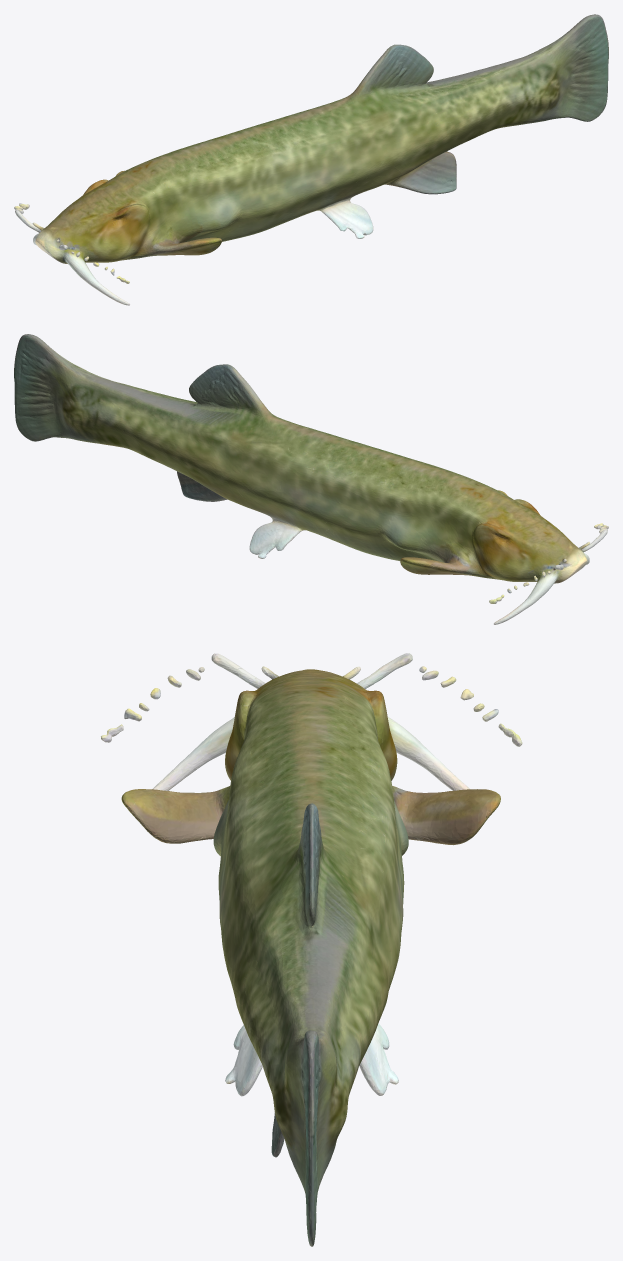
The model's file is catfish.fbx.
The picture shows the model from 3 angles, top to bottom: view 1: azimuth 30°, elevation 25°; view 2: azimuth 150°, elevation 25°; view 3: azimuth 270°, elevation 25°; orthographic projection. The views are drawn at different scales.
Parts seen in each view (by area): view 1: world; view 2: world; view 3: world.
Boxes of the visible parts, x1=… form: world: x1=14, y1=14, x2=608, y2=305; world: x1=14, y1=334, x2=608, y2=624; world: x1=101, y1=653, x2=522, y2=1246.
Bounding box in the file's own units: 199 × 55.41 × 63.78.
Materials: 1 (1 with a texture image).
